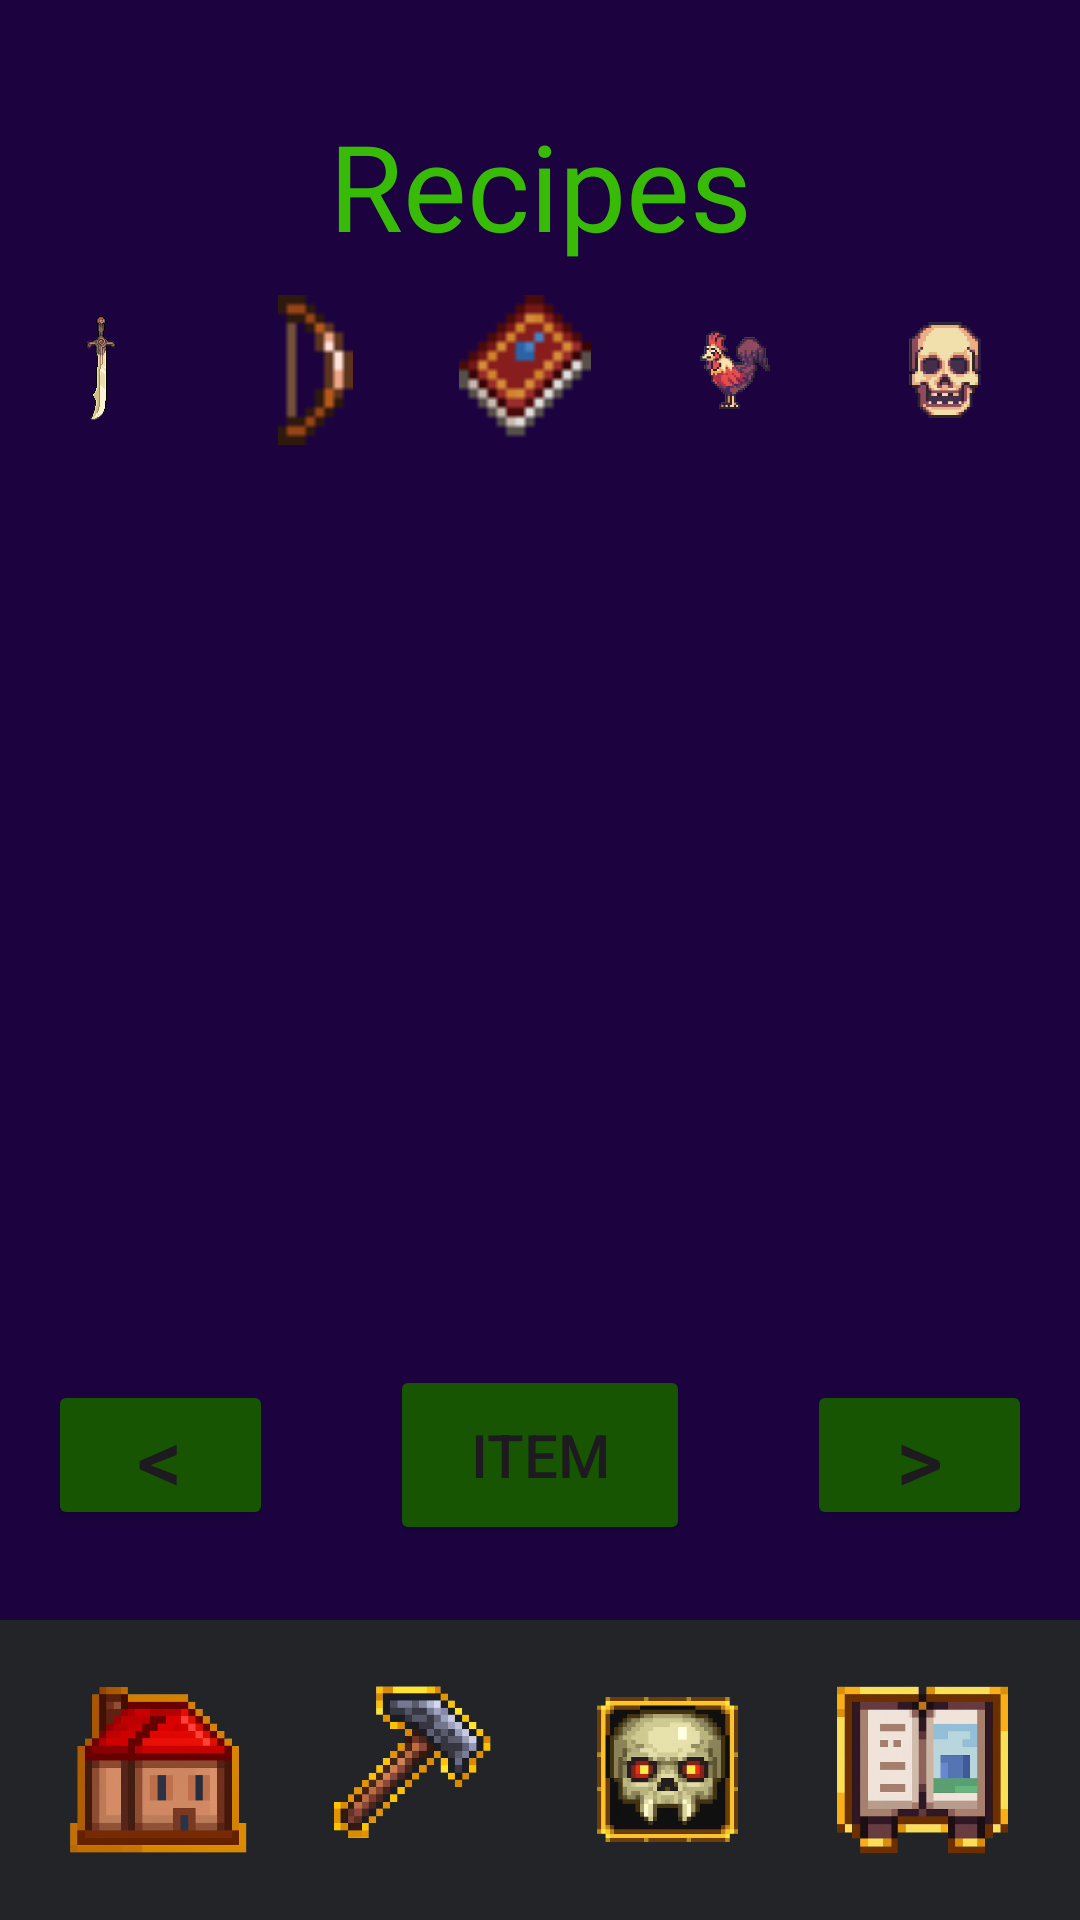

Named icons in this screenshot (1080 x 1920) and their centers, [x,y]:
Boss Checklist: [667,1769]
Boss Summoning Items: [945,370]
Home: [158,1770]
Mage Weapons: [525,365]
Melee Weapons: [101,368]
Ranged Weapons: [315,370]
Summoning Weapons: [735,370]
